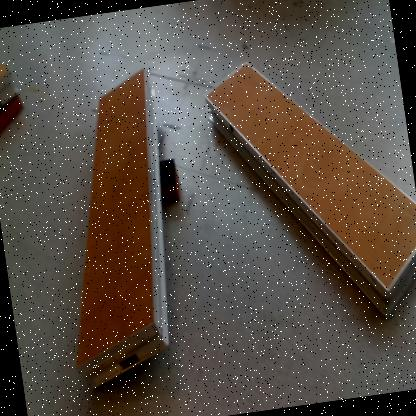Stairs: (205, 62, 416, 321), (80, 68, 169, 396), (1, 64, 21, 112)
